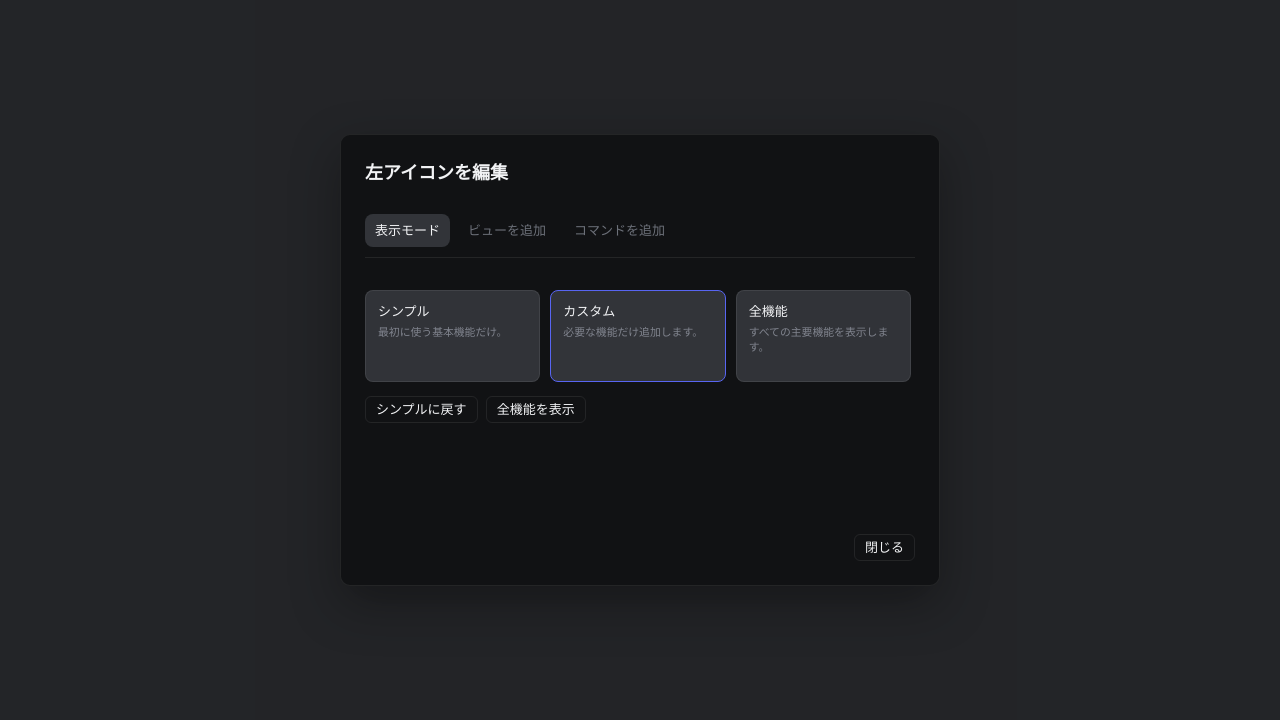
RailCustomizeDialog › filters commands by search query
Click the button "コマンドを追加" at [620, 231], box [564,214,675,247]
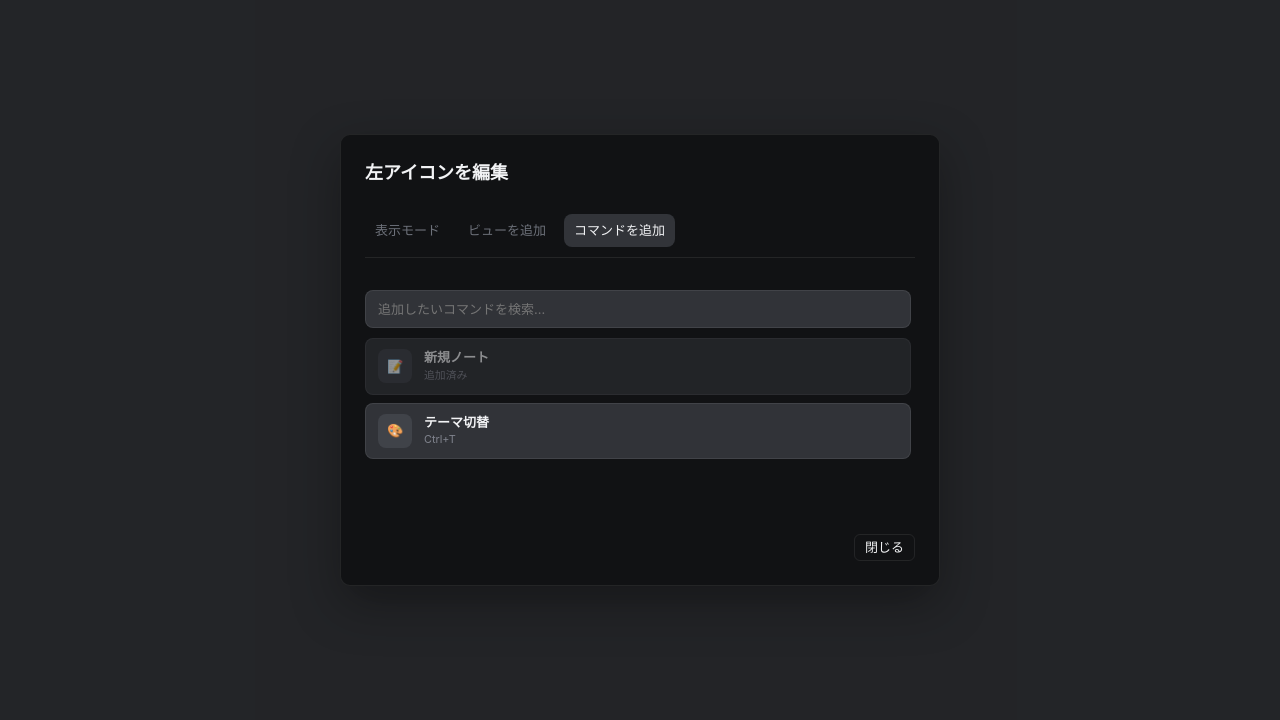
Type "テーマ" into the field with placeholder "追加したいコマンドを検索..." at [638, 309], box [365,290,911,328]
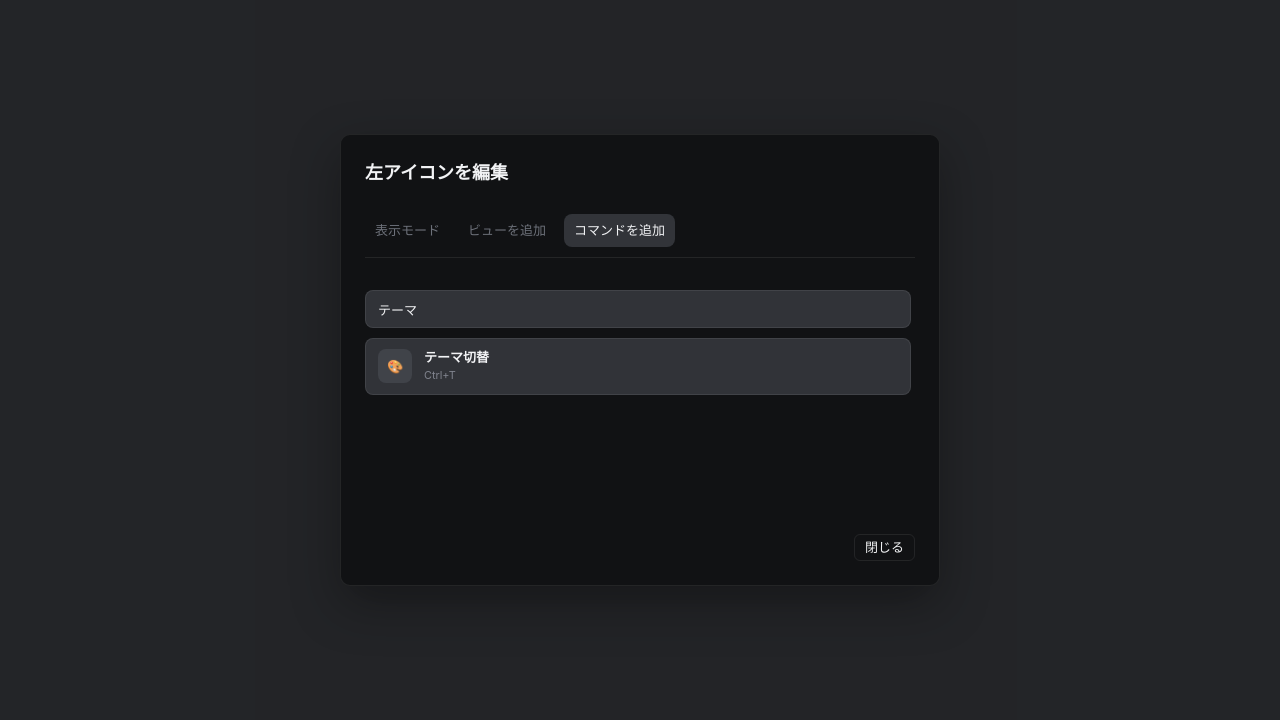
Result: the text "テーマ切替" is shown at [424,349,489,366]
Result: the button "新規ノート" is gone
